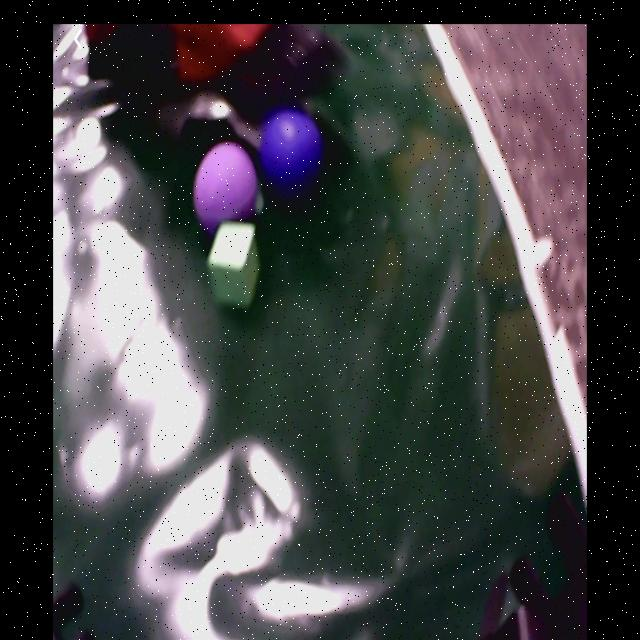ball: (196, 145, 258, 233), (261, 110, 321, 190)
